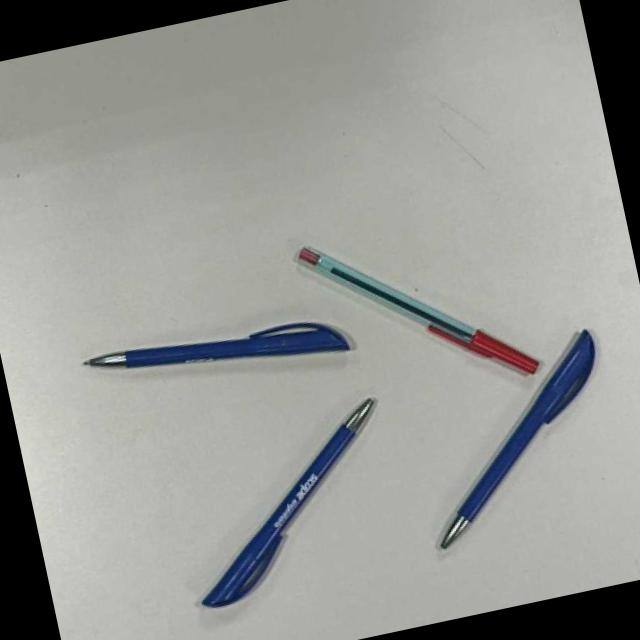caneta: (202, 395, 387, 621), (434, 329, 610, 560), (293, 244, 541, 378), (81, 317, 350, 372)
